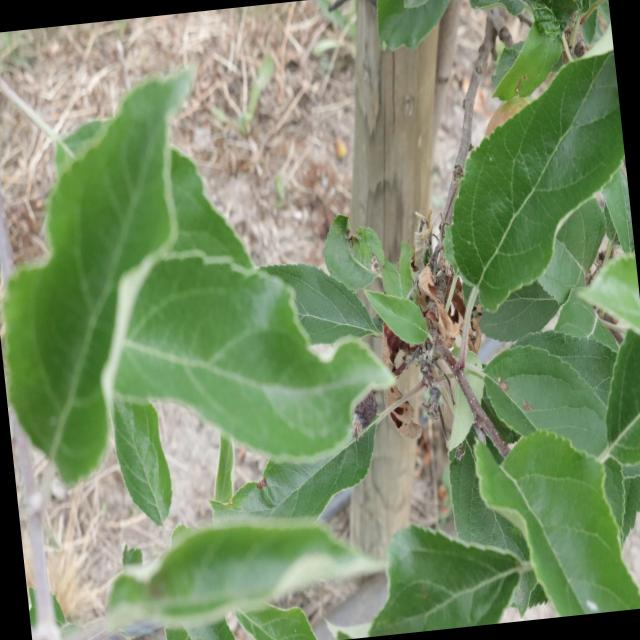-FireBlight-: (377, 319, 423, 443), (416, 265, 464, 342)
